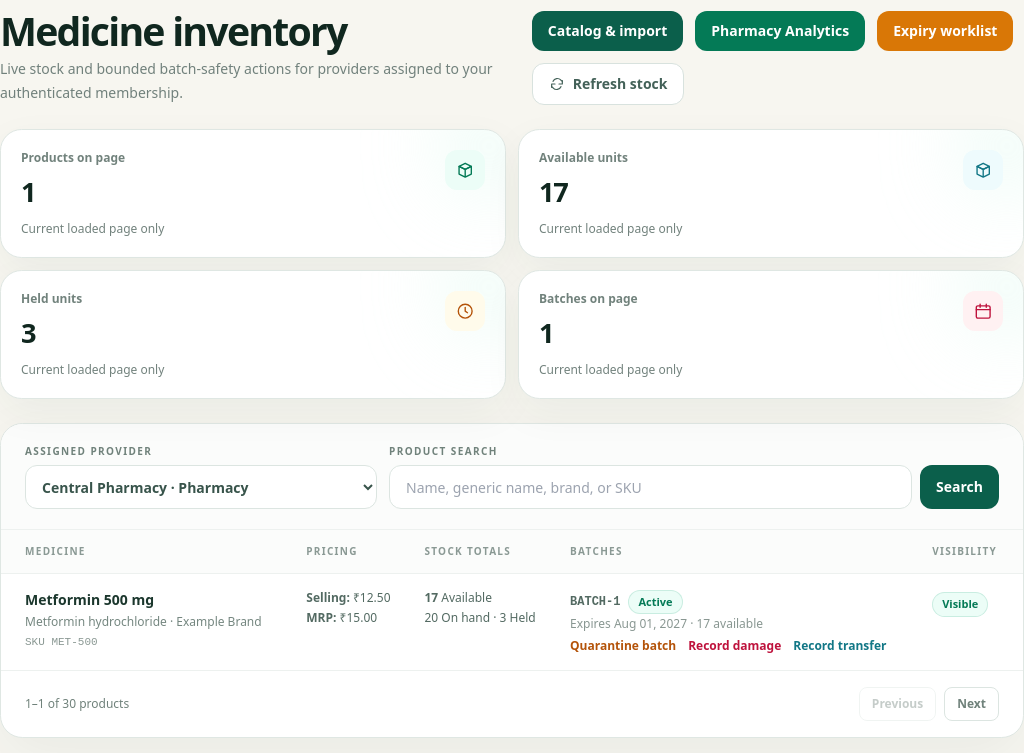
Test: InventoryWorkspace live integration › records only a confirmed available damaged quantity and refreshes live stock
Click the button with aria-label "Record damage for batch BATCH-1" at (735, 646), box [688,638,781,654]
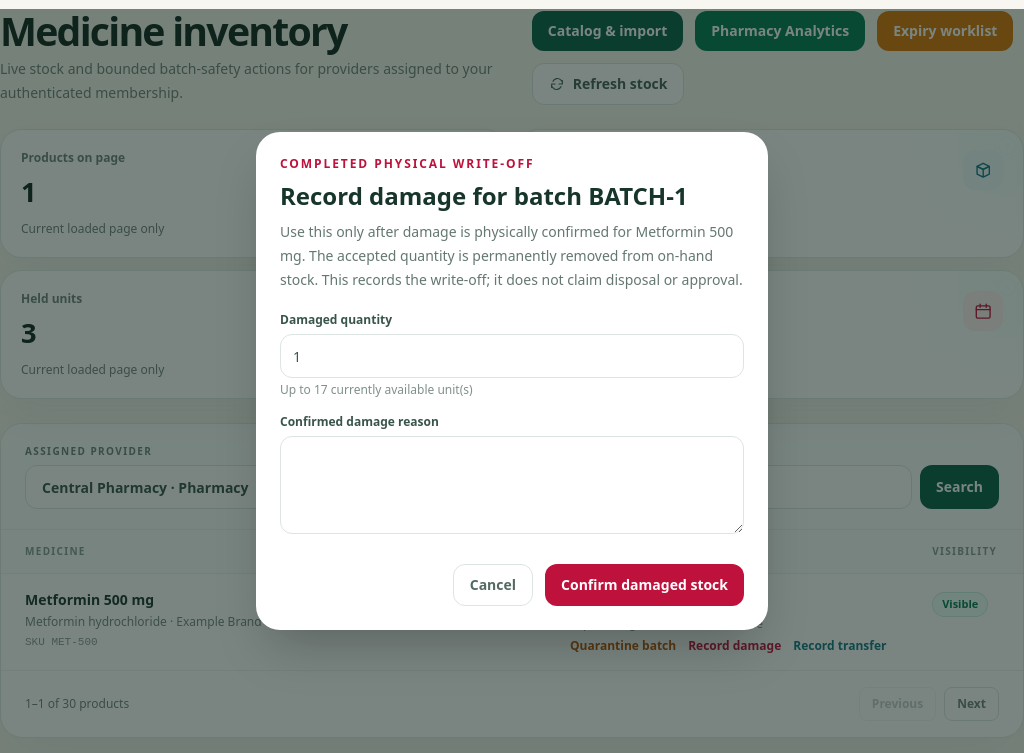
Expected: the dialog shows "does not claim disposal or approval", [280,222,743,289]
Replace the text in the number field labelled "Damaged quantity" with "2" at (512, 356), box [280,334,744,378]
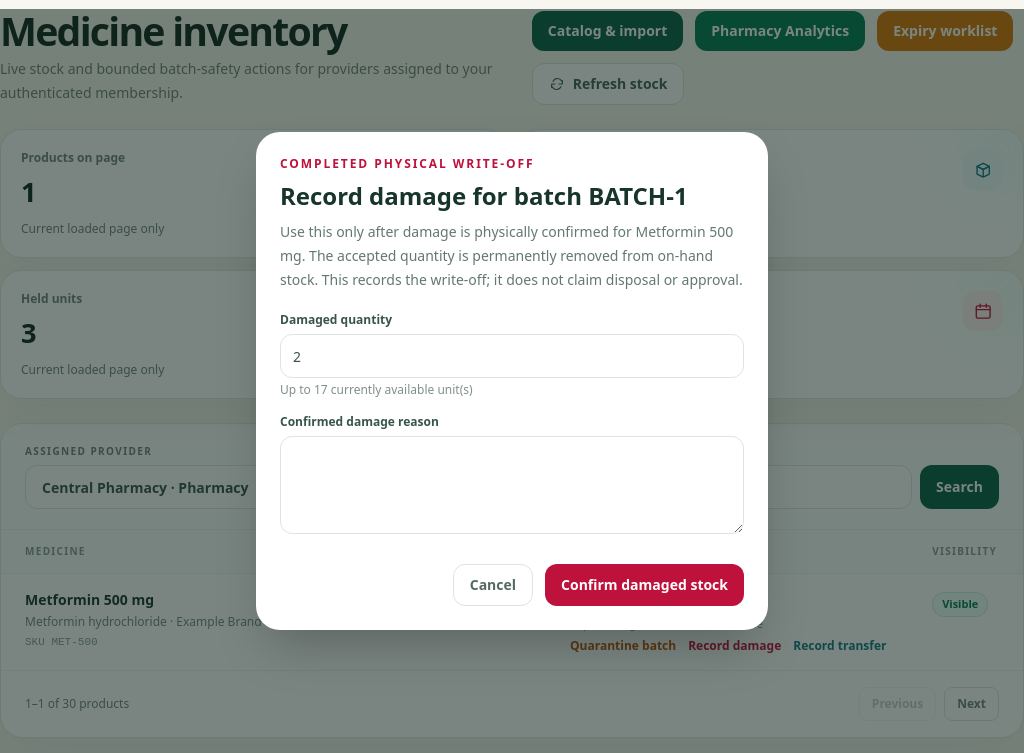
Type " Two sealed packs were physically damaged during handling. " into the text box labelled "Confirmed damage reason" at (512, 485), box [280,436,744,534]
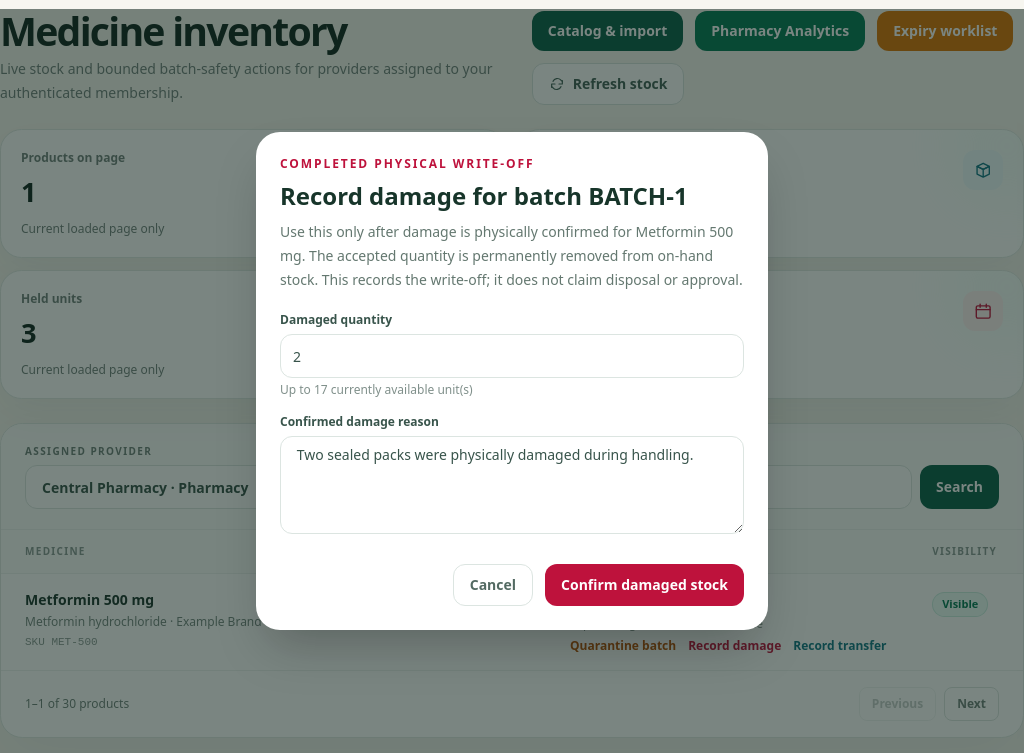
Click the button "Confirm damaged stock" at (644, 585), box [545,564,744,606]
(page scrolled)
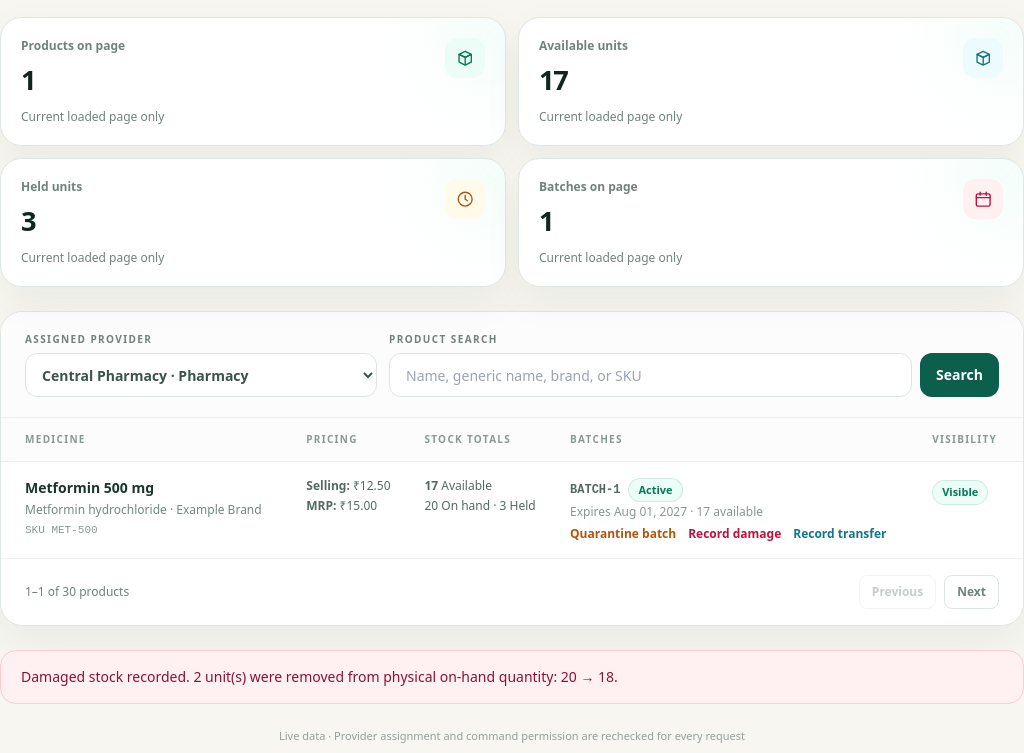
Expected: the text "20 → 18" is shown, [21,667,618,686]
